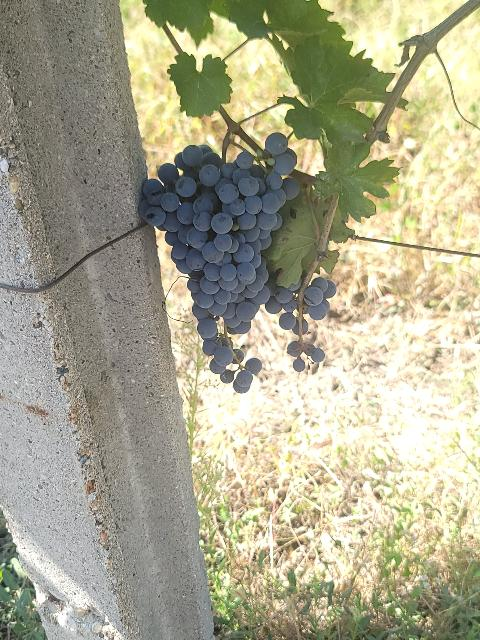grapes: (139, 132, 300, 392)
